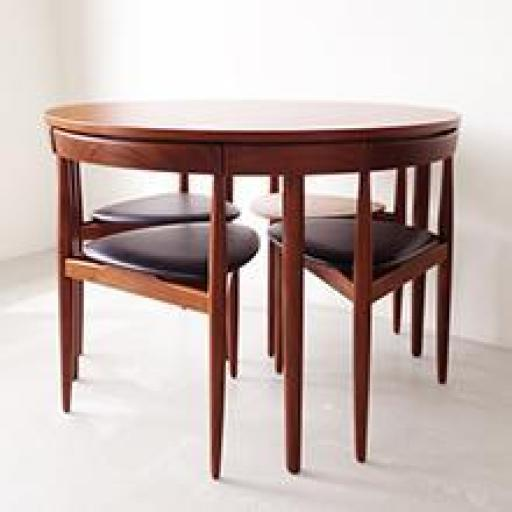table: (34, 92, 474, 460)
